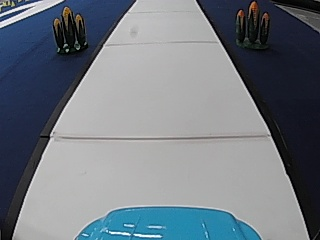corn: (233, 0, 272, 50), (51, 4, 89, 53)
